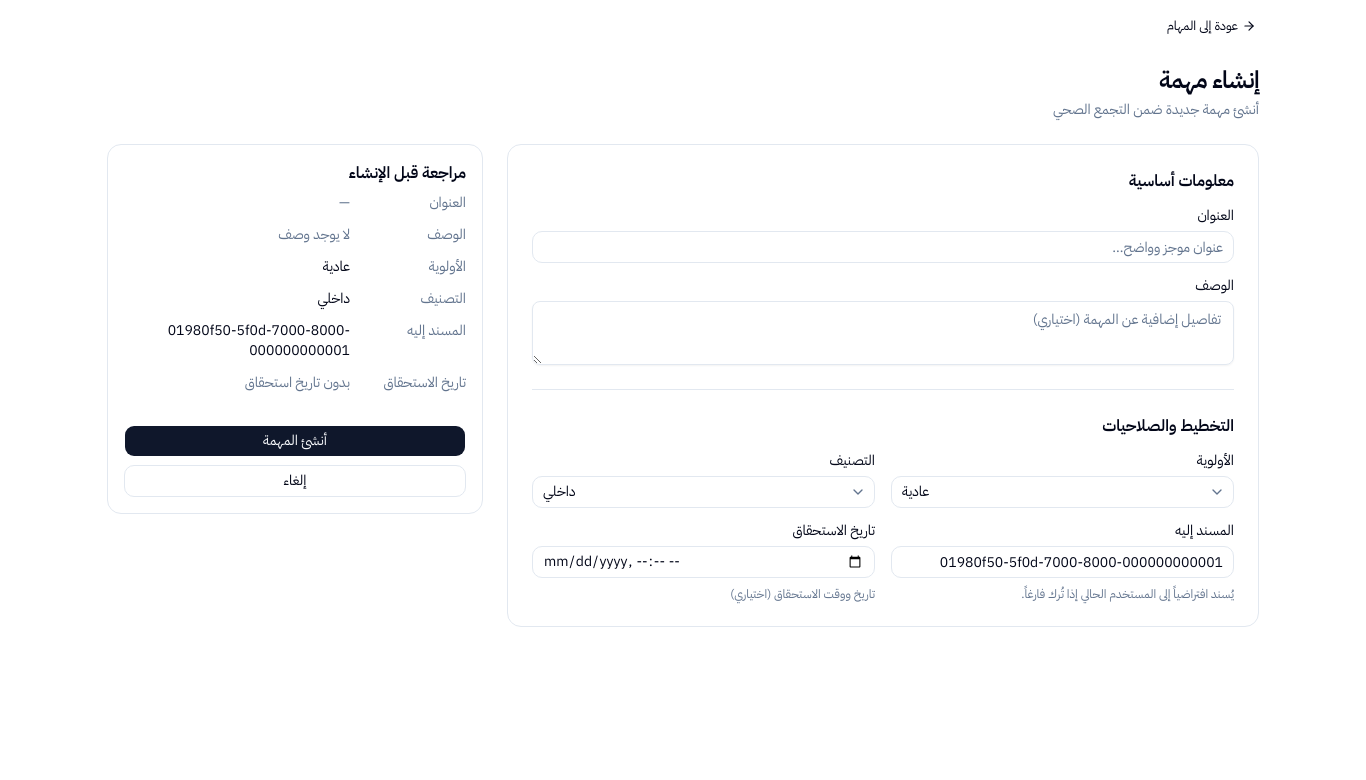
TaskCreateScreen — submit, validation, and navigation › maps a 403 server error to the forbidden title error
In the field labelled "العنوان": (883, 247) [532,231,1234,263], type "مهمة محظورة"
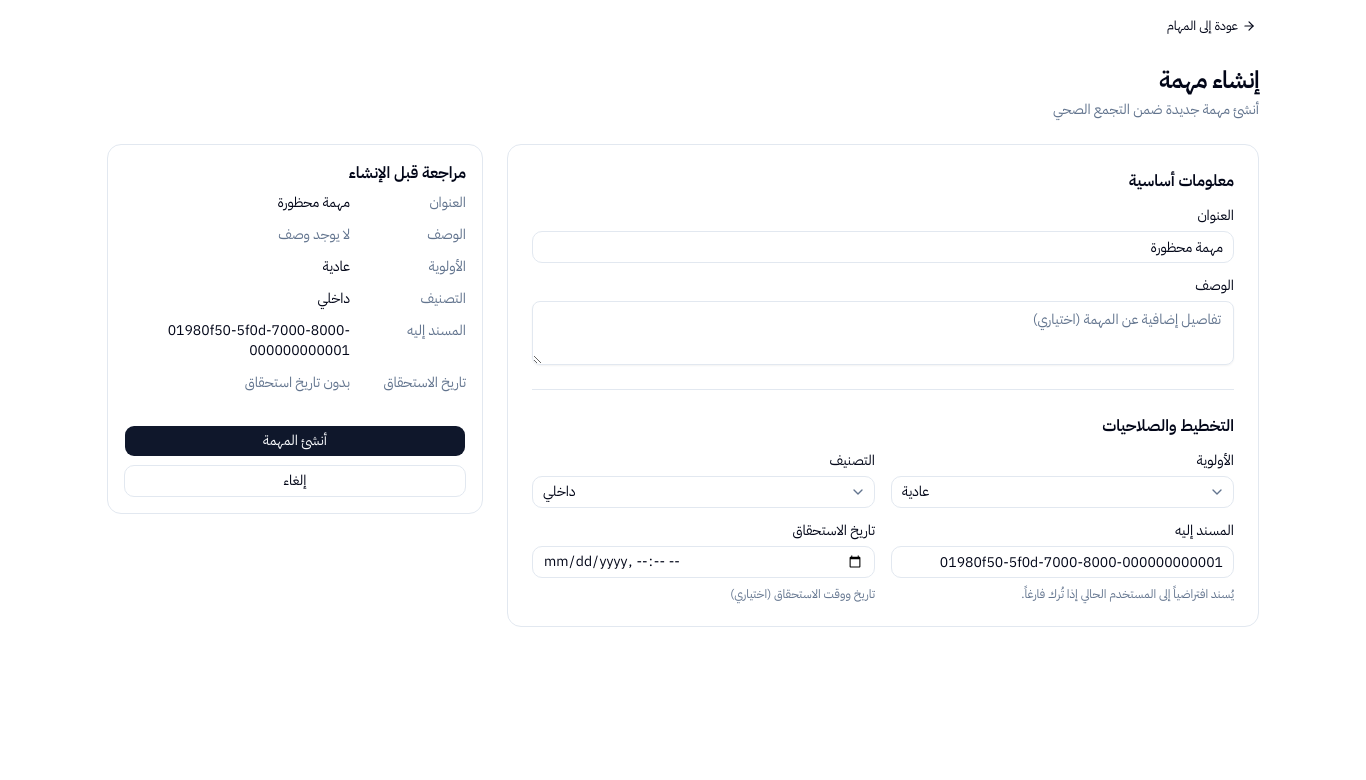
Click the button "أنشئ المهمة": (295, 441) [124,425,466,457]
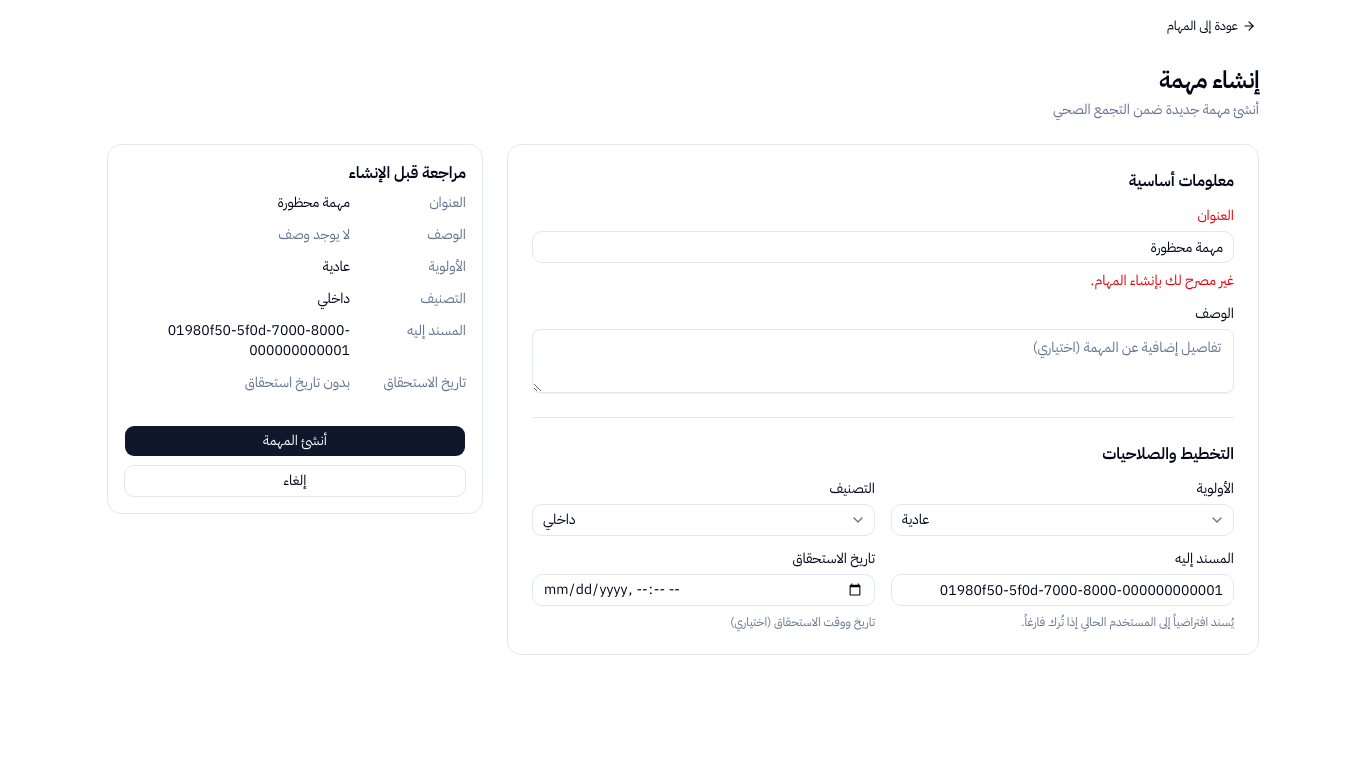
Now the text "غير مصرح لك بإنشاء المهام." is shown, box [1091,270,1234,291]
